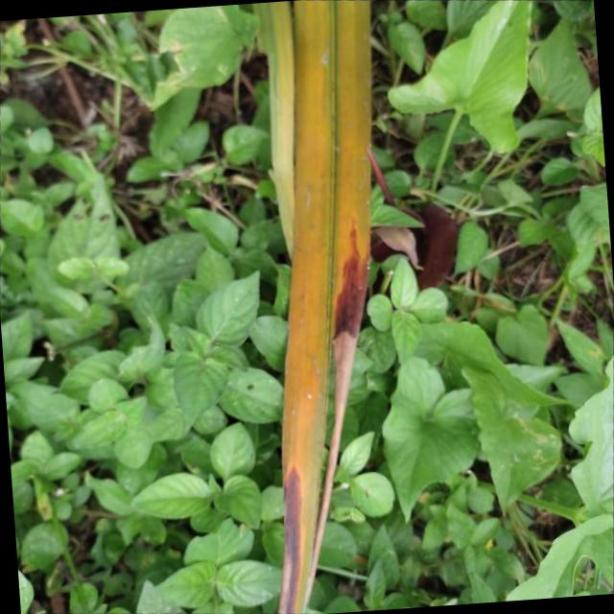Megnesium: (282, 0, 374, 614)
